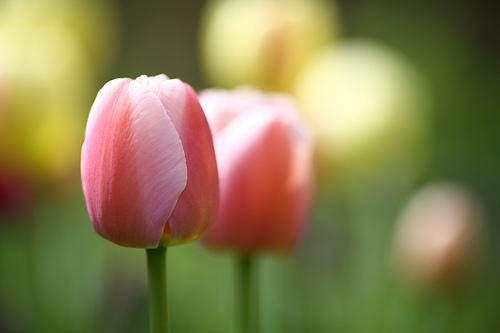tulip: (81, 72, 218, 253)
